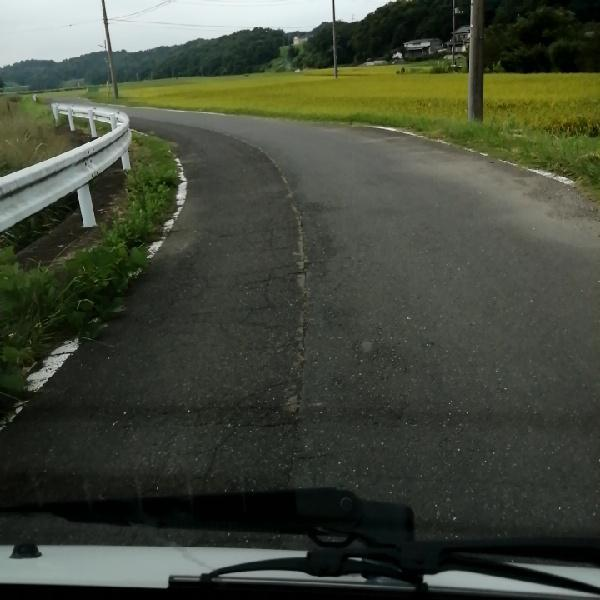D10: (75, 408, 295, 440)
D20: (206, 212, 326, 421)
D44: (11, 123, 180, 398)
